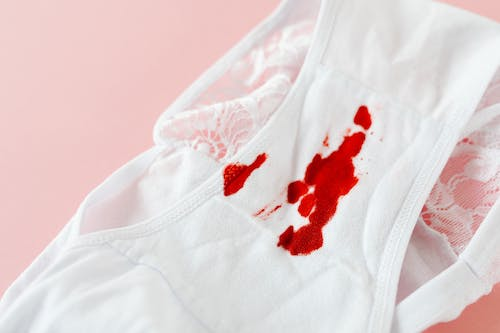blood: (220, 103, 385, 257)
